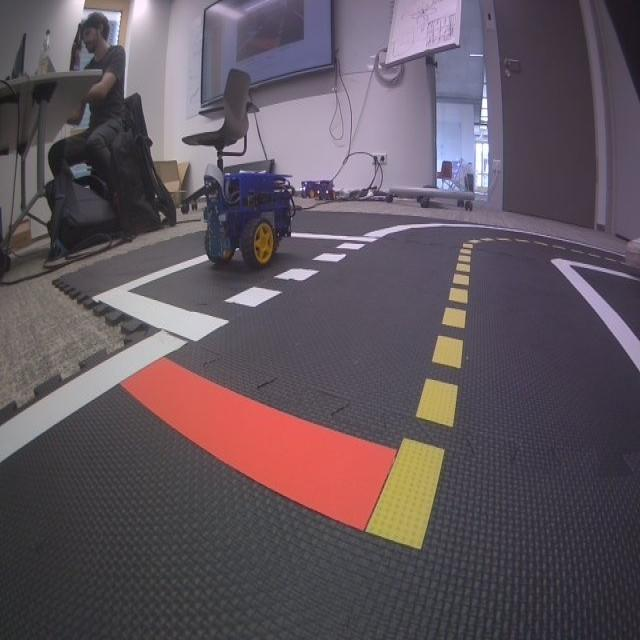bot: (200, 163, 296, 269)
park: (92, 231, 378, 342)
